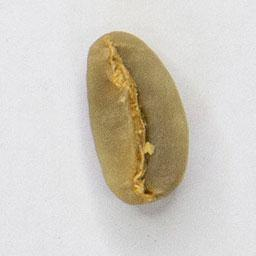longberry: (83, 28, 194, 209)
